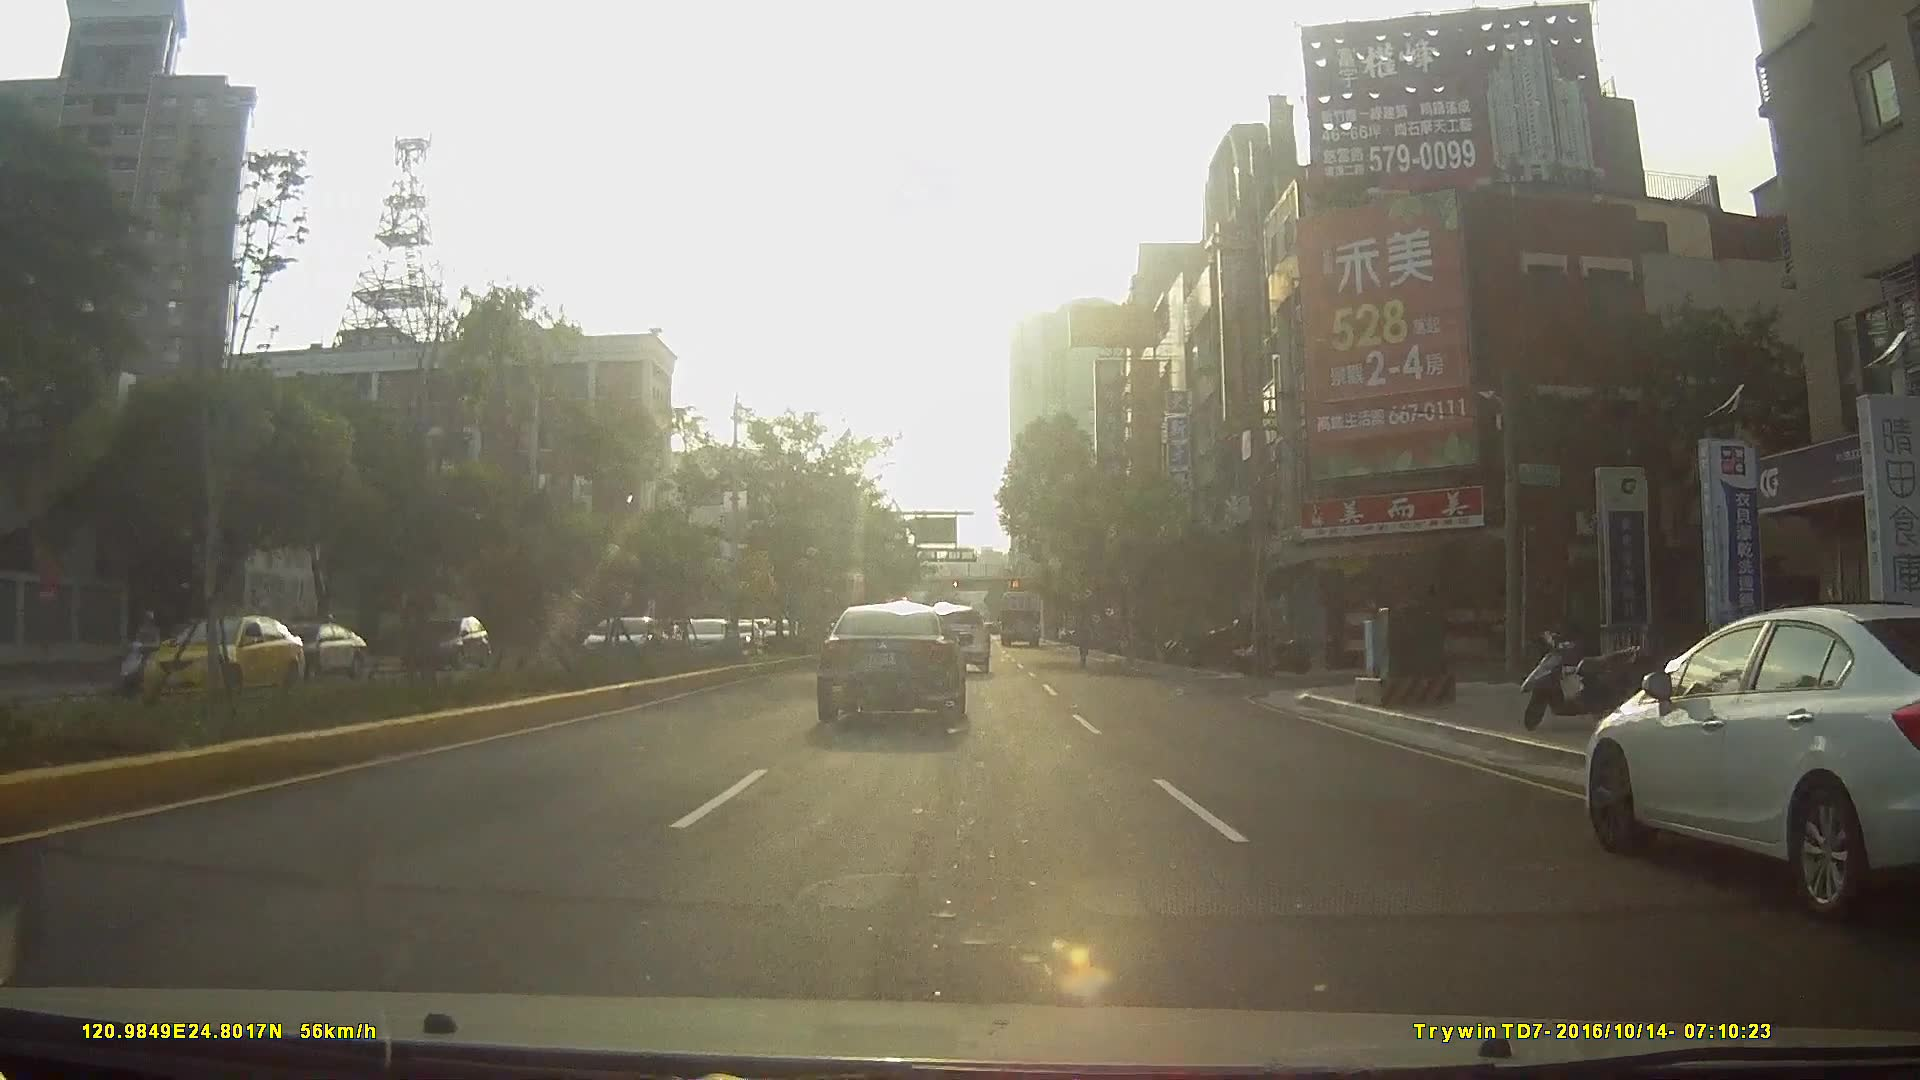vehicle: (1577, 603, 1920, 934), (116, 611, 314, 717), (815, 601, 967, 727), (150, 618, 268, 691), (257, 621, 360, 680), (916, 603, 992, 674), (396, 612, 488, 669), (568, 615, 659, 665), (996, 587, 1042, 647), (676, 615, 738, 657), (608, 620, 650, 658)
